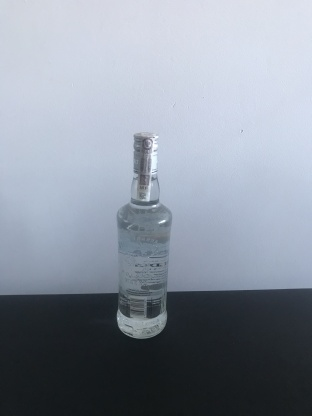nakretka: (130, 128, 160, 176)
